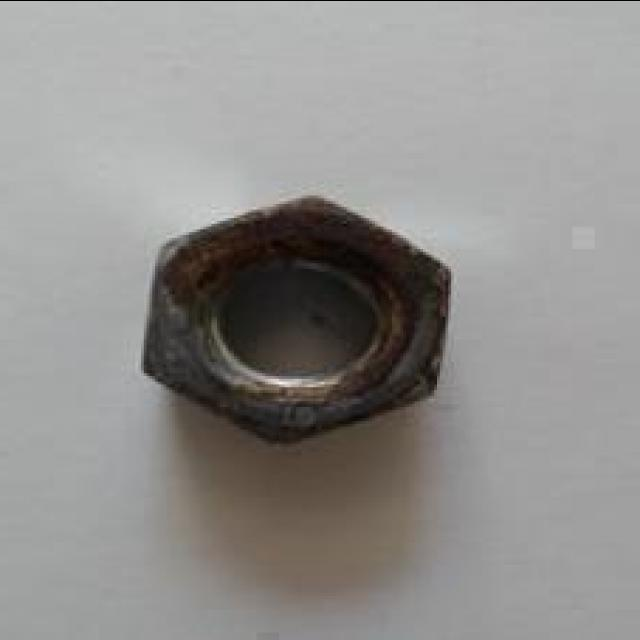ecrouNOK: (137, 188, 457, 454)
